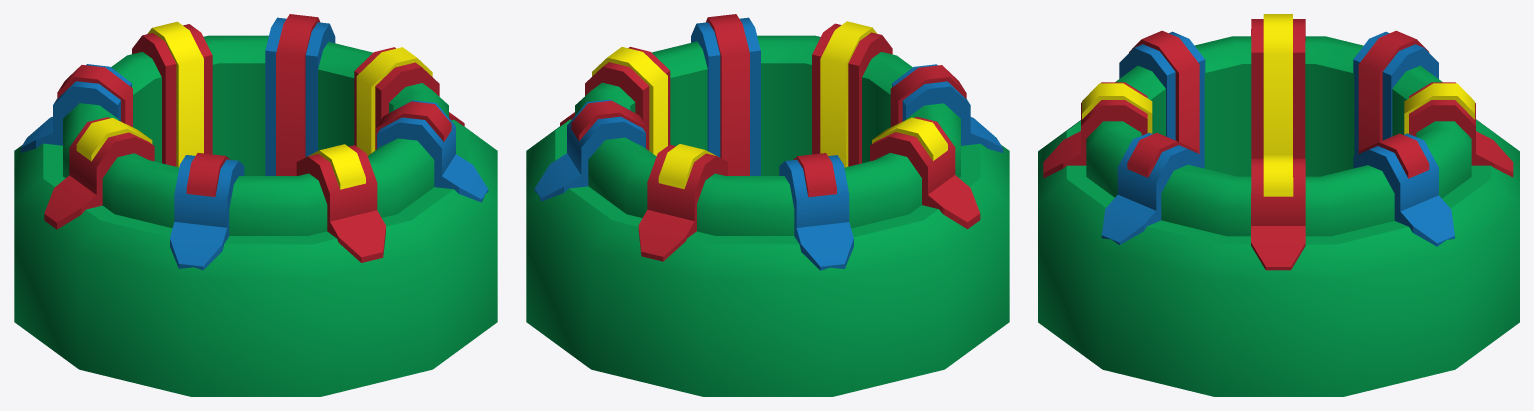
File: spawn_point_mesh.FBX
The picture shows the model from 3 angles, left to right: view 1: azimuth 30°, elevation 25°; view 2: azimuth 150°, elevation 25°; view 3: azimuth 270°, elevation 25°; orthographic projection.
Parts seen in each view (by area): view 1: spawn_point_01_mesh, spawn_point_02_mesh, spawn_point_03_mesh; view 2: spawn_point_01_mesh, spawn_point_02_mesh, spawn_point_03_mesh; view 3: spawn_point_01_mesh, spawn_point_03_mesh, spawn_point_02_mesh.
Boxes of the visible parts, left/top/right/bottom form: spawn_point_01_mesh: left=14, top=35, right=497, bottom=396; spawn_point_02_mesh: left=44, top=21, right=464, bottom=262; spawn_point_03_mesh: left=20, top=14, right=488, bottom=270; spawn_point_01_mesh: left=526, top=35, right=1009, bottom=396; spawn_point_02_mesh: left=560, top=21, right=980, bottom=261; spawn_point_03_mesh: left=534, top=14, right=1003, bottom=270; spawn_point_01_mesh: left=1038, top=36, right=1519, bottom=396; spawn_point_03_mesh: left=1101, top=30, right=1454, bottom=246; spawn_point_02_mesh: left=1043, top=14, right=1513, bottom=270.
Bounding box in the file's own units: 260 × 132 × 260.
